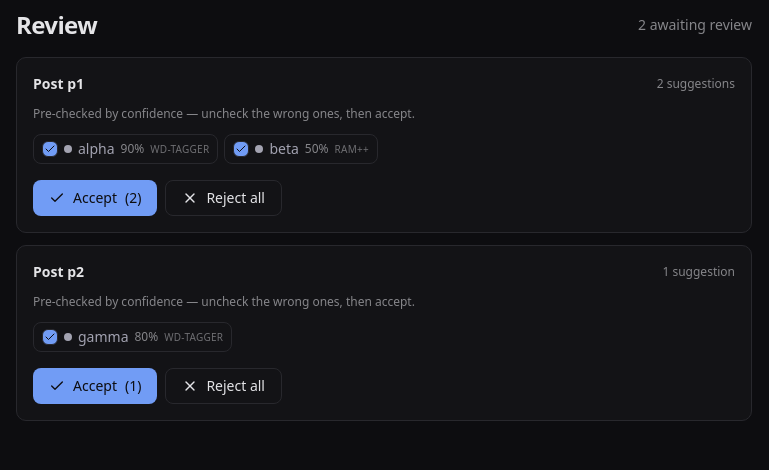
Review view › a failed resolve re-inserts the card and shows an error
Expected: the link "Post p1" is shown, [33,74,84,93]
Click the button "Accept (2)": x=95, y=198 [33,180,157,216]
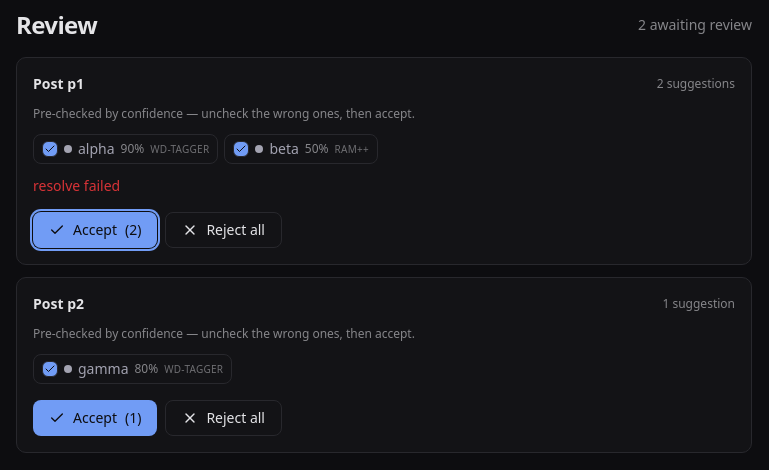
Expected: the link "Post p1" is shown, [33,74,84,93]
Expected: the message reads "resolve failed", [33,176,120,195]
